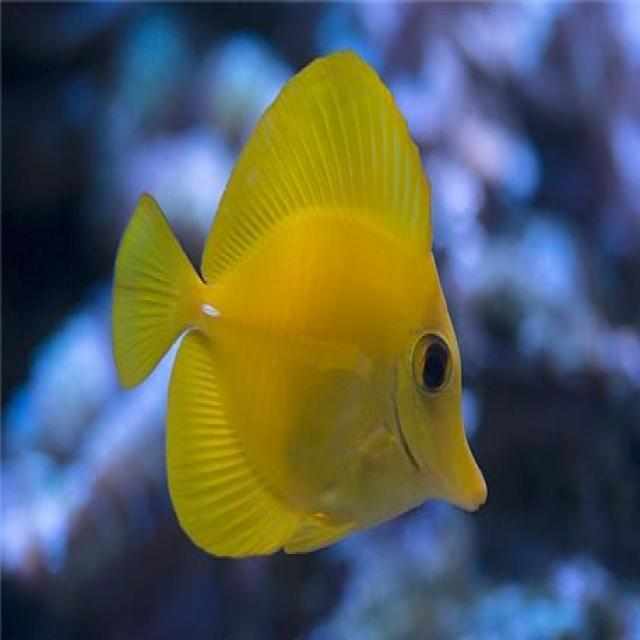YellowTang: (103, 46, 500, 567)
